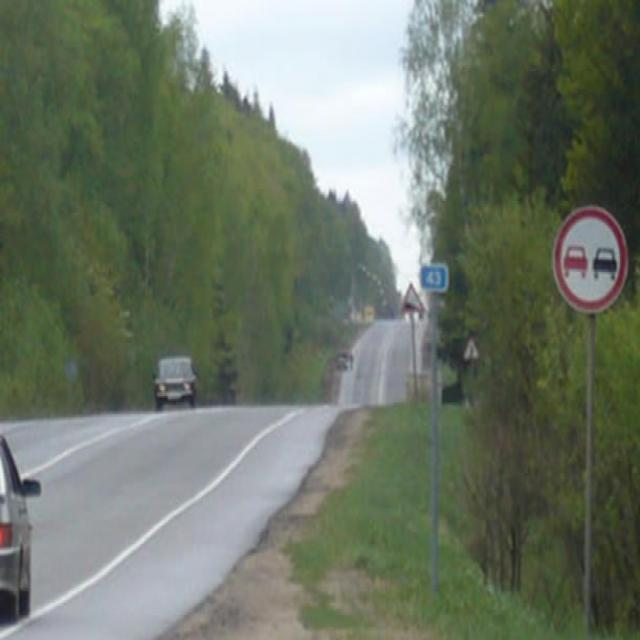no overtaking: (548, 202, 633, 316)
